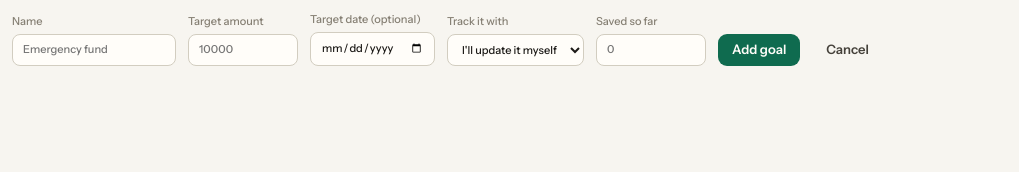
Test: GoalForm › explains a missing name beside the form and sends nothing
Step 1. Type "2000" into the field labelled "Target amount" → (243, 50), box left=188, top=34, right=298, bottom=66
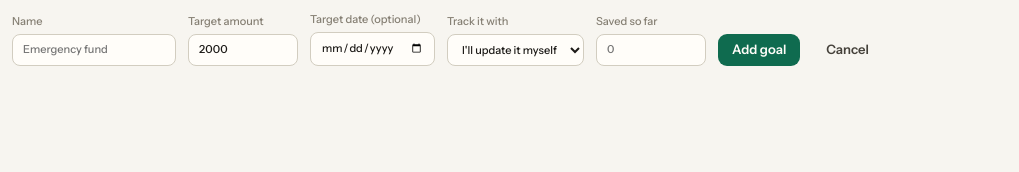
Step 2. Click the button "Add goal" → (759, 50), box left=718, top=34, right=800, bottom=66
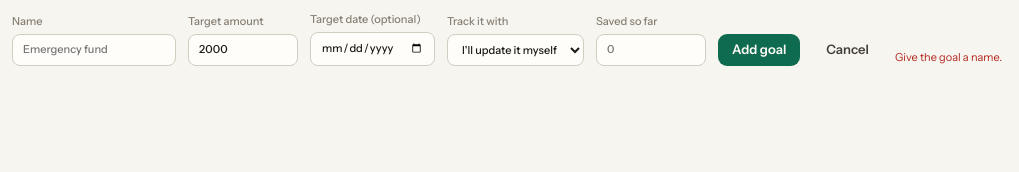
Now the message reads "Give the goal a name.", box left=895, top=50, right=1002, bottom=64
